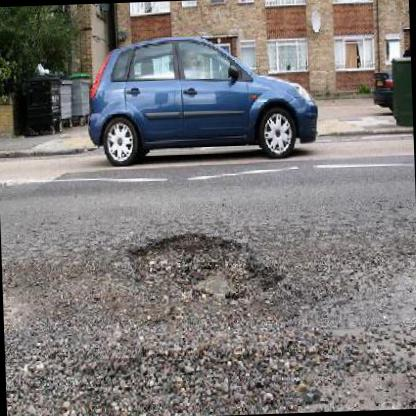pothole: (125, 226, 285, 306)
